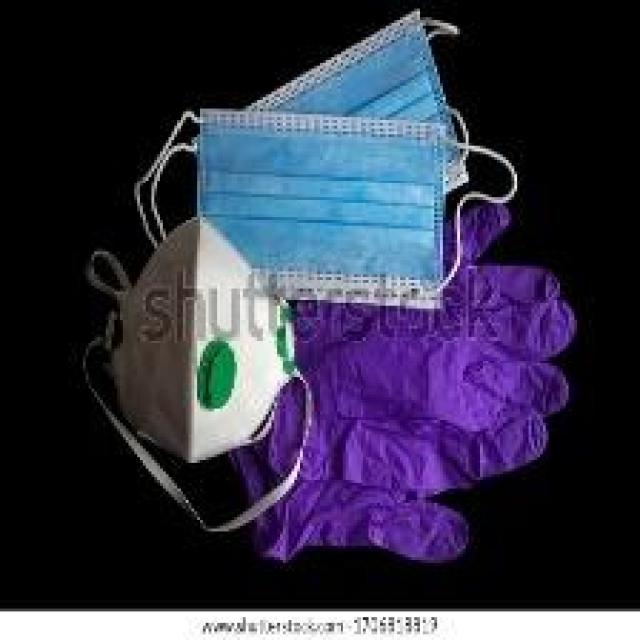Mask: (151, 56, 520, 346), (33, 236, 321, 558)
